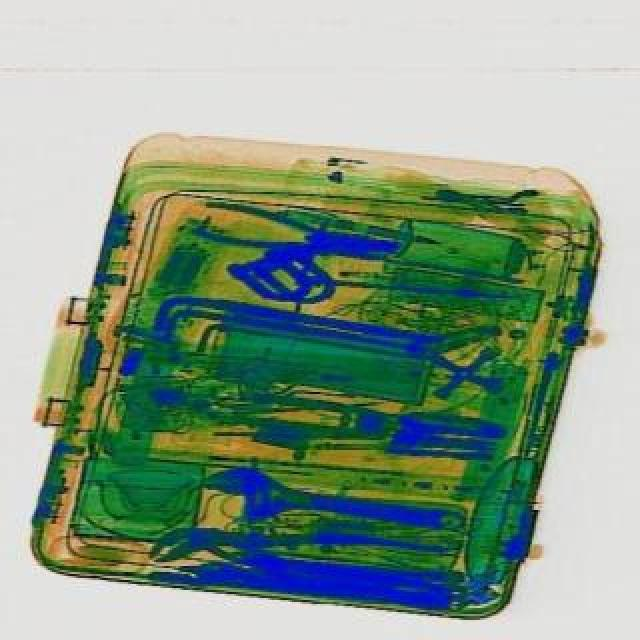scissors: (196, 458, 468, 552)
wrench: (234, 386, 504, 452), (192, 196, 396, 272)
